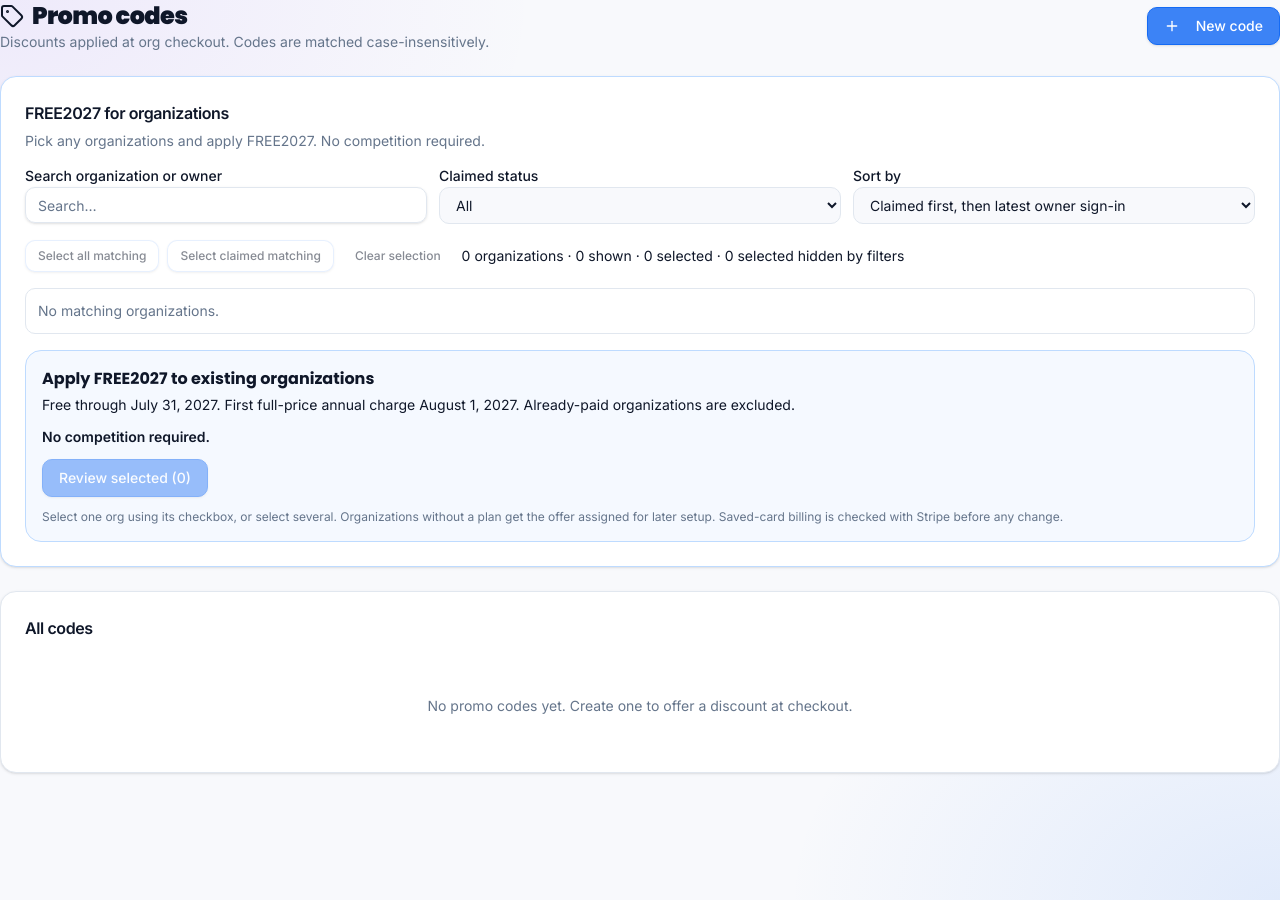
Test case: promo offer mode › retains standard discount creation without linkage
Click the button with test id "btn-new-promo" at (1213, 26), box [1147,7,1279,45]
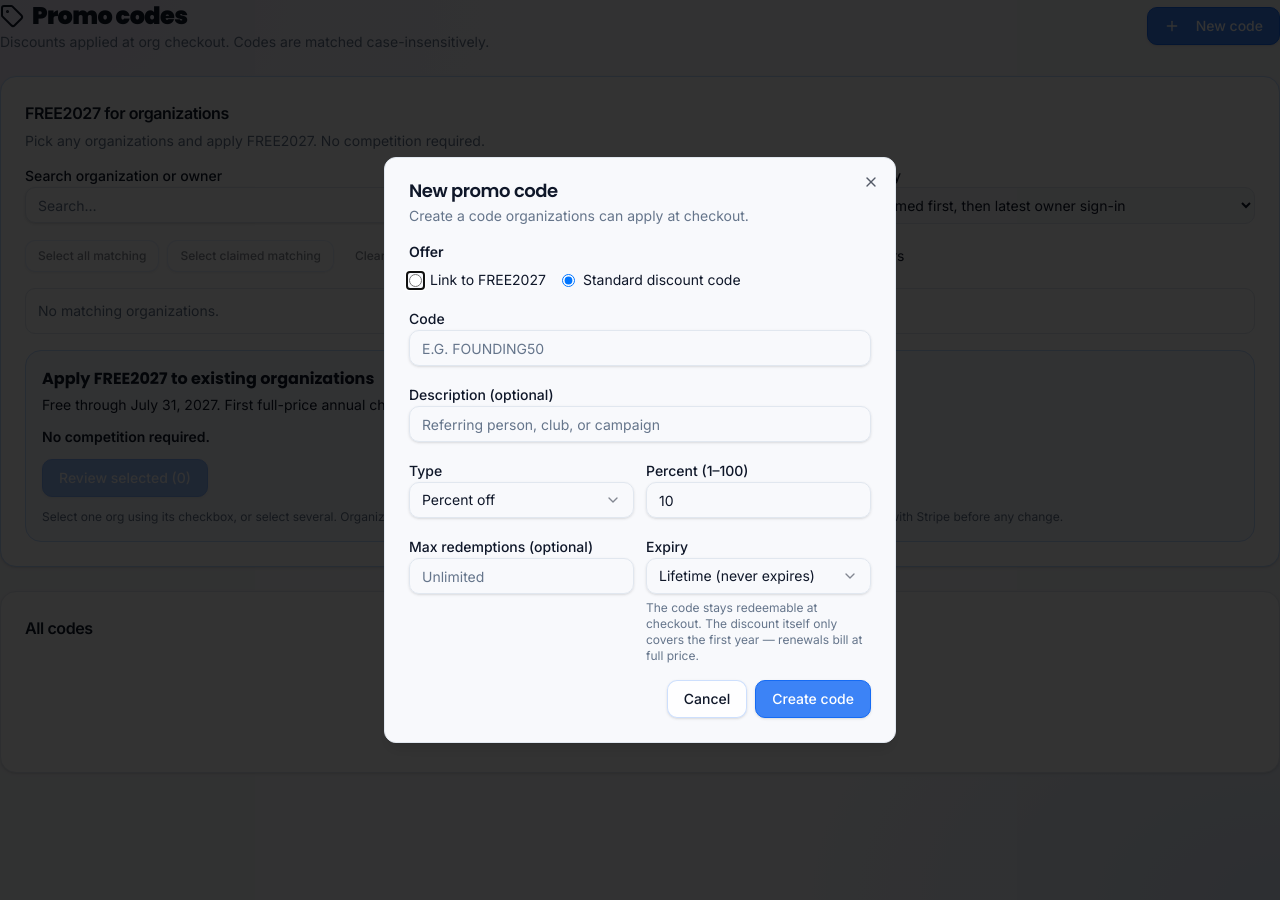
Type "STANDARD10" into the field with test id "input-new-code" at (640, 348), box [409,330,871,366]
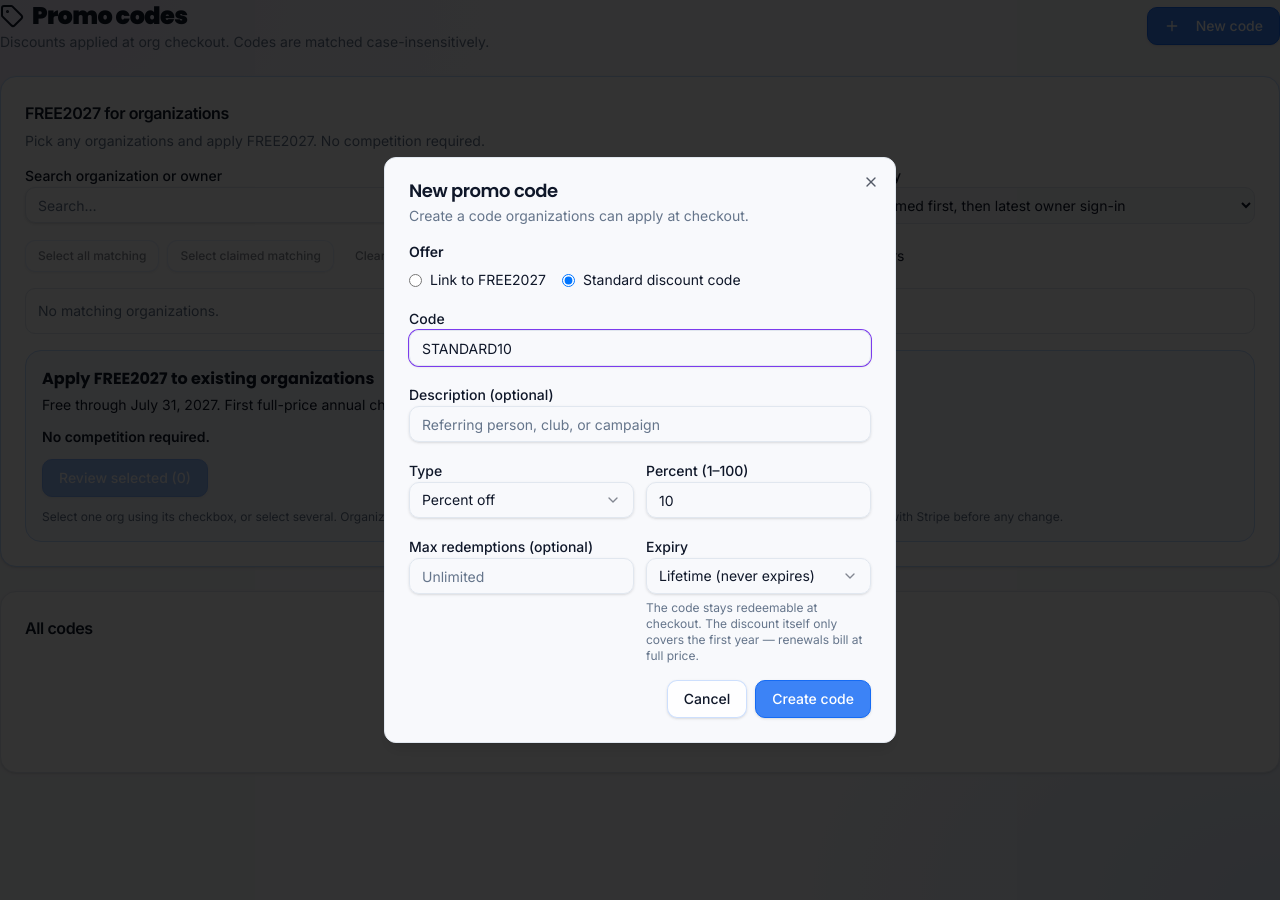
Click the button with test id "btn-save-promo" at (813, 699), box [755,680,871,718]
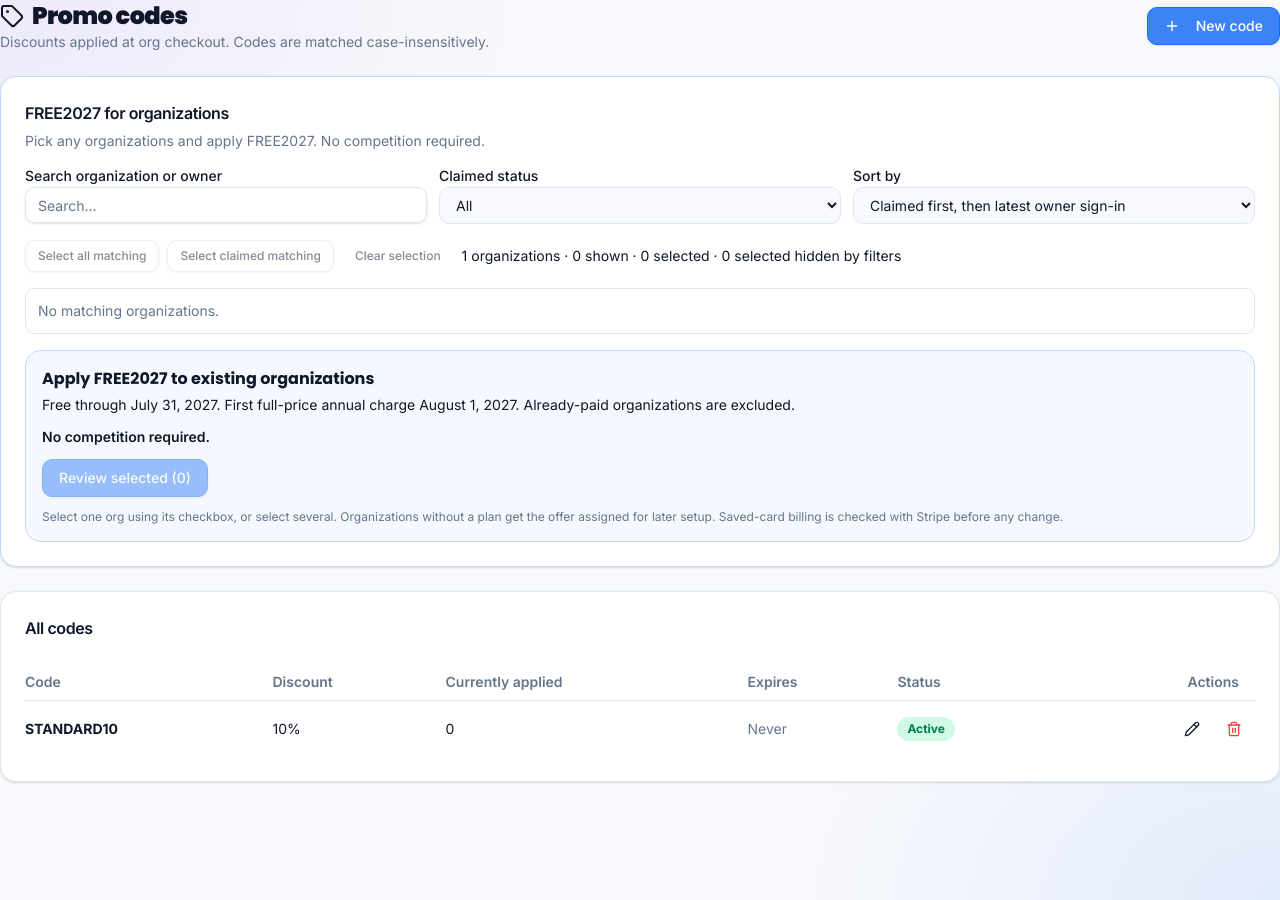
expect the row with test id "promo-row-standard10" is shown: met, box [25,700,1255,757]
